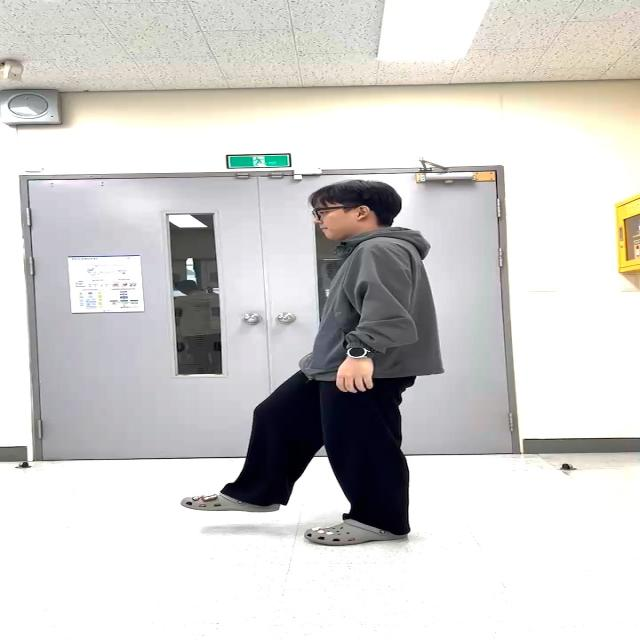leg: (180, 369, 322, 512), (303, 377, 412, 545)
